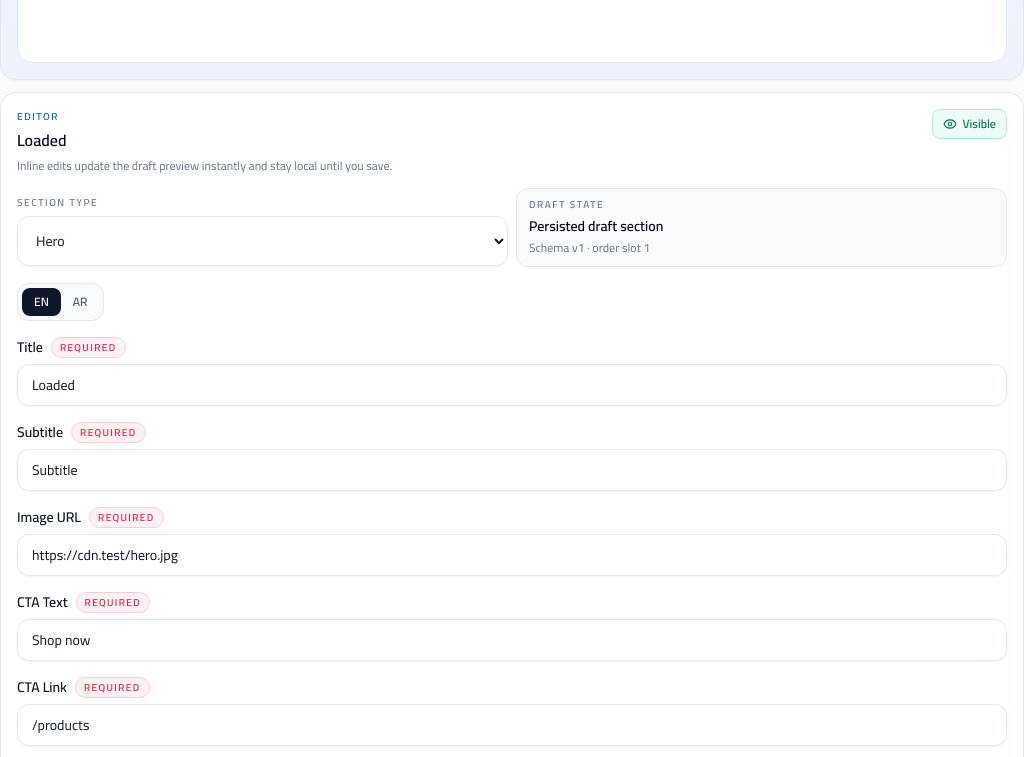
HomepageBuilderPage authoring contract › refreshes authoritative state and recovers a conflict before the next save
This screenshot has width=1024, height=757.
Later steps or results of the test are not shown.
(page scrolled)
Replace the text in the 1st field showing "Loaded" with "Stale edit": [512, 384] box [17,364,1007,406]
(page scrolled)
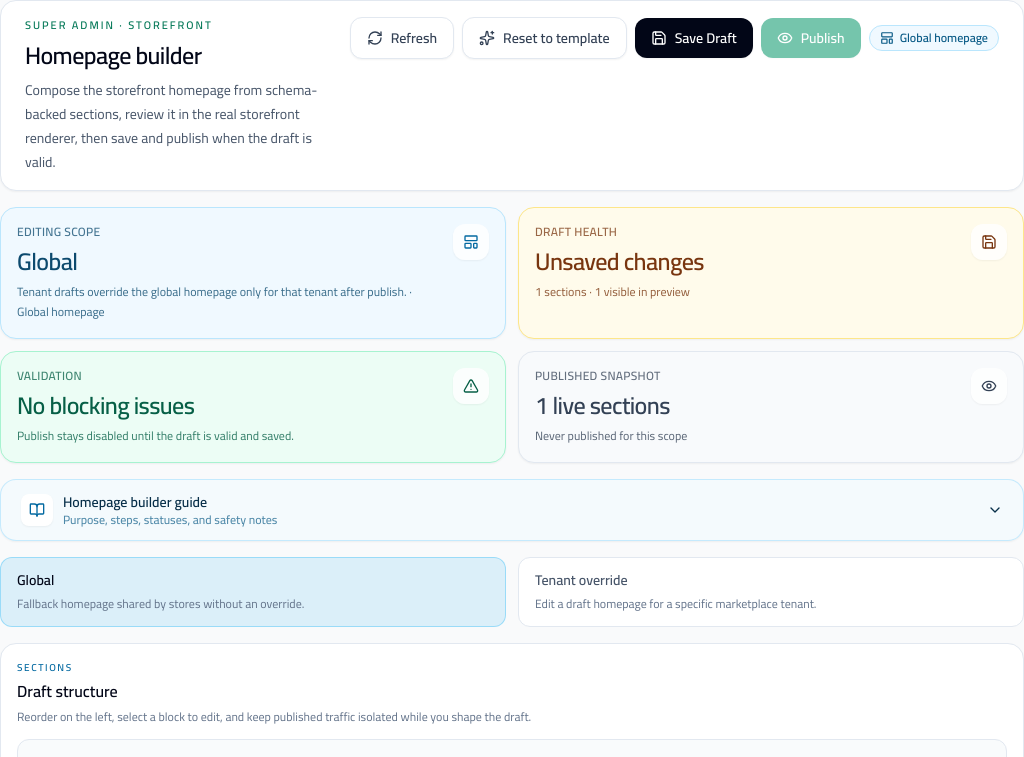
Click the button "Save Draft": [694, 38] box [635,18,753,58]
(page scrolled)
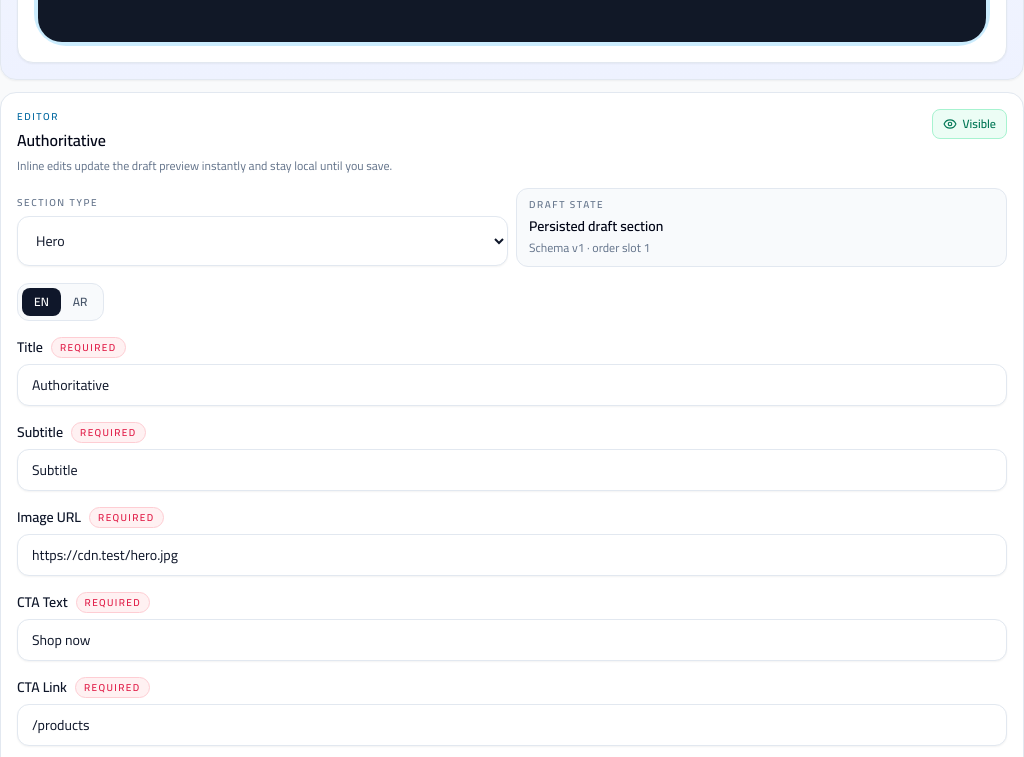
Now the 1st field showing "Authoritative" is shown, box [17,364,1007,406]
